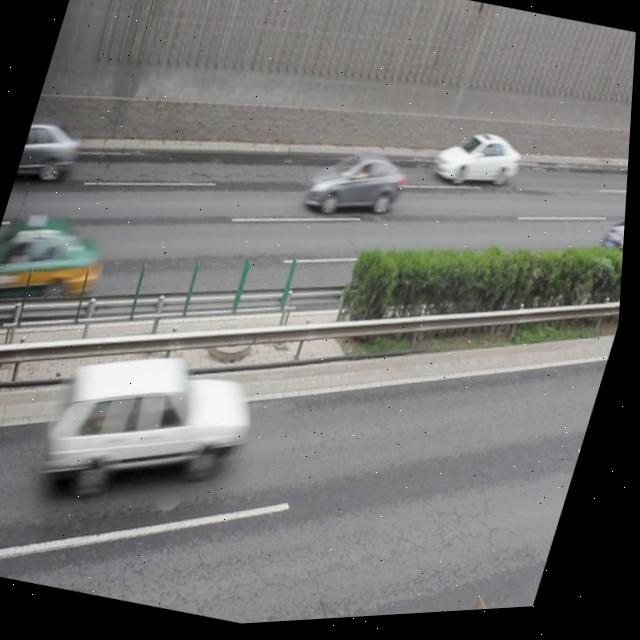car: (34, 327, 265, 529), (0, 205, 113, 324), (304, 143, 410, 233), (430, 126, 529, 206), (598, 210, 629, 273)
